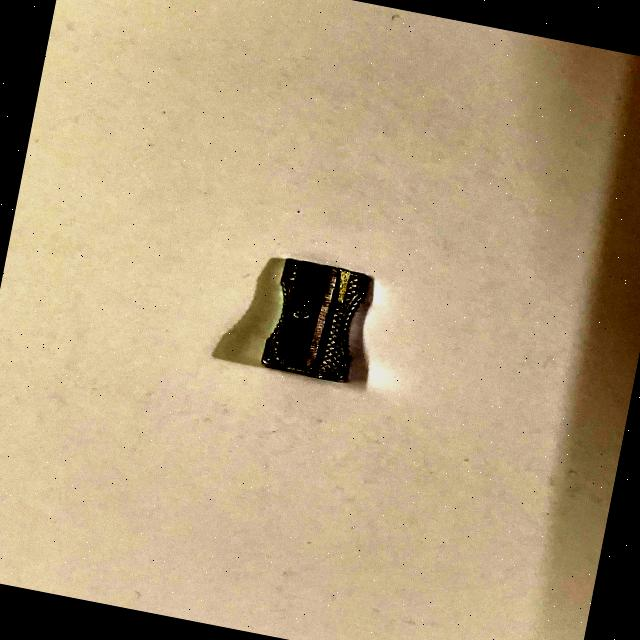Sharpner: (228, 228, 418, 410)
